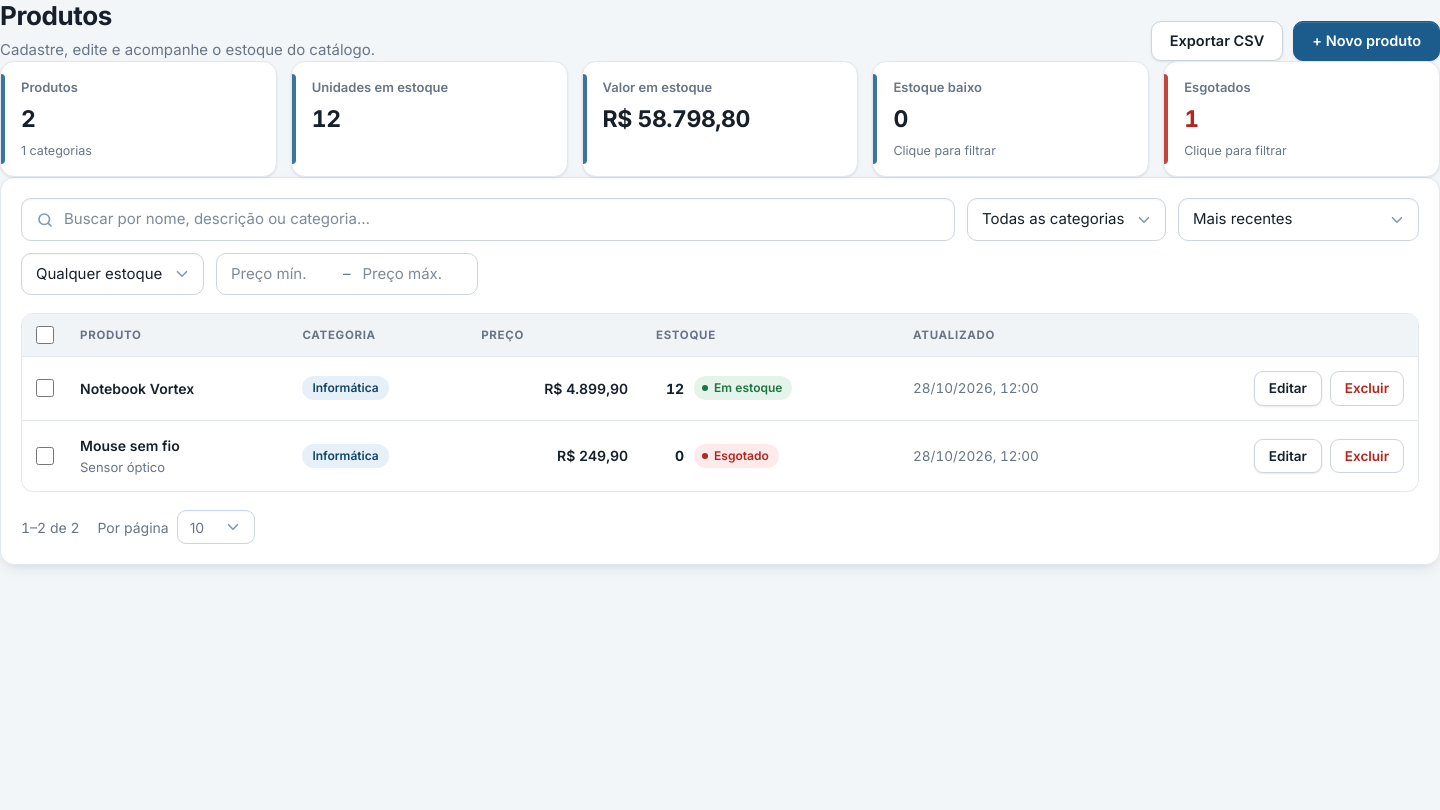
Test case: ProductList › exclui só depois de confirmar, e recarrega lista e indicadores
Expected: the text "Notebook Vortex" is shown, [80,380,194,397]
Click the button with aria-label "Excluir Mouse sem fio" at (1367, 456), box [1330,439,1404,473]
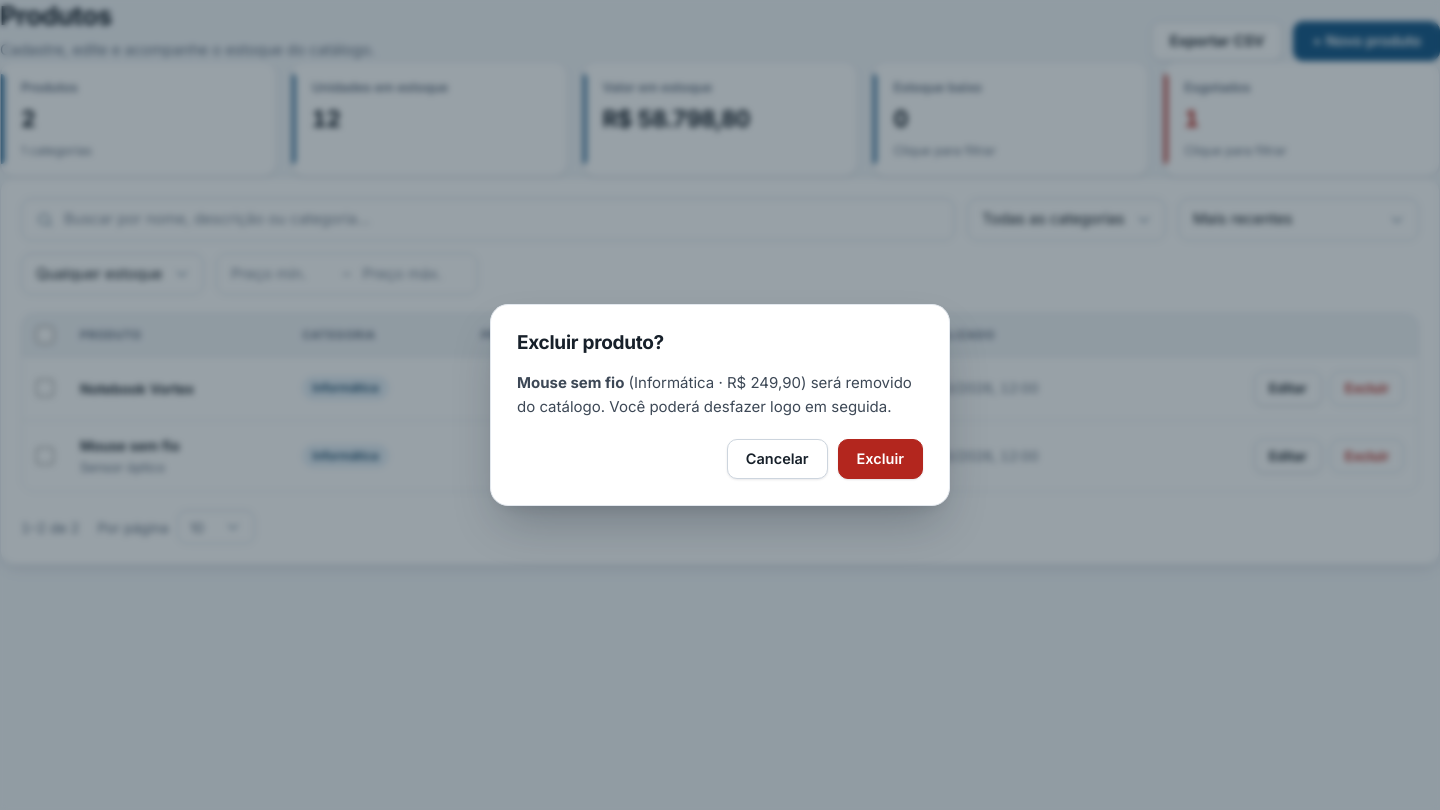
Now the dialog "Excluir produto?" shows "Mouse sem fio", box [517,373,624,392]
Click the button "Excluir" at (880, 459), box [838,439,923,479]
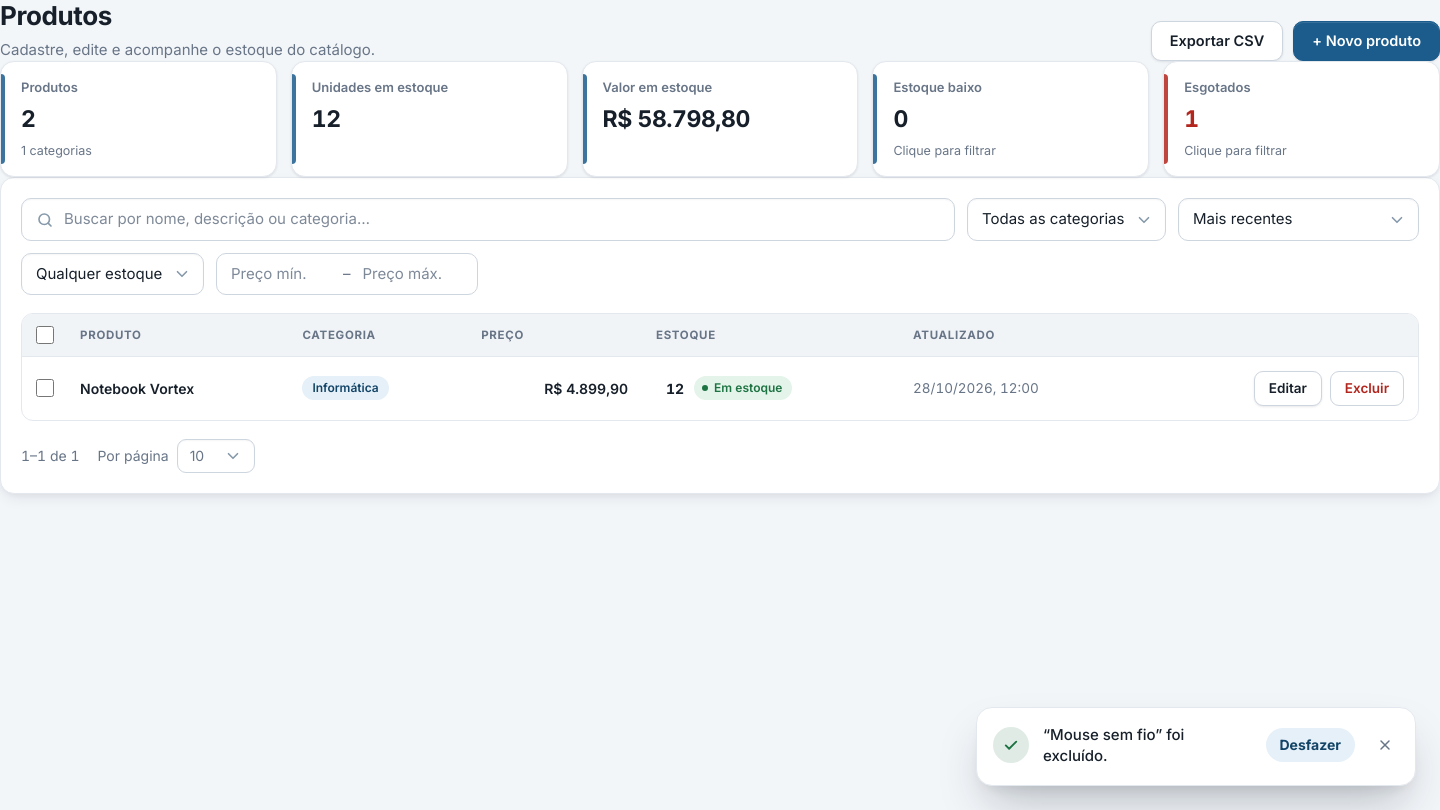
Now the text "“Mouse sem fio” foi excluído." is shown, box [1043,724,1184,765]
